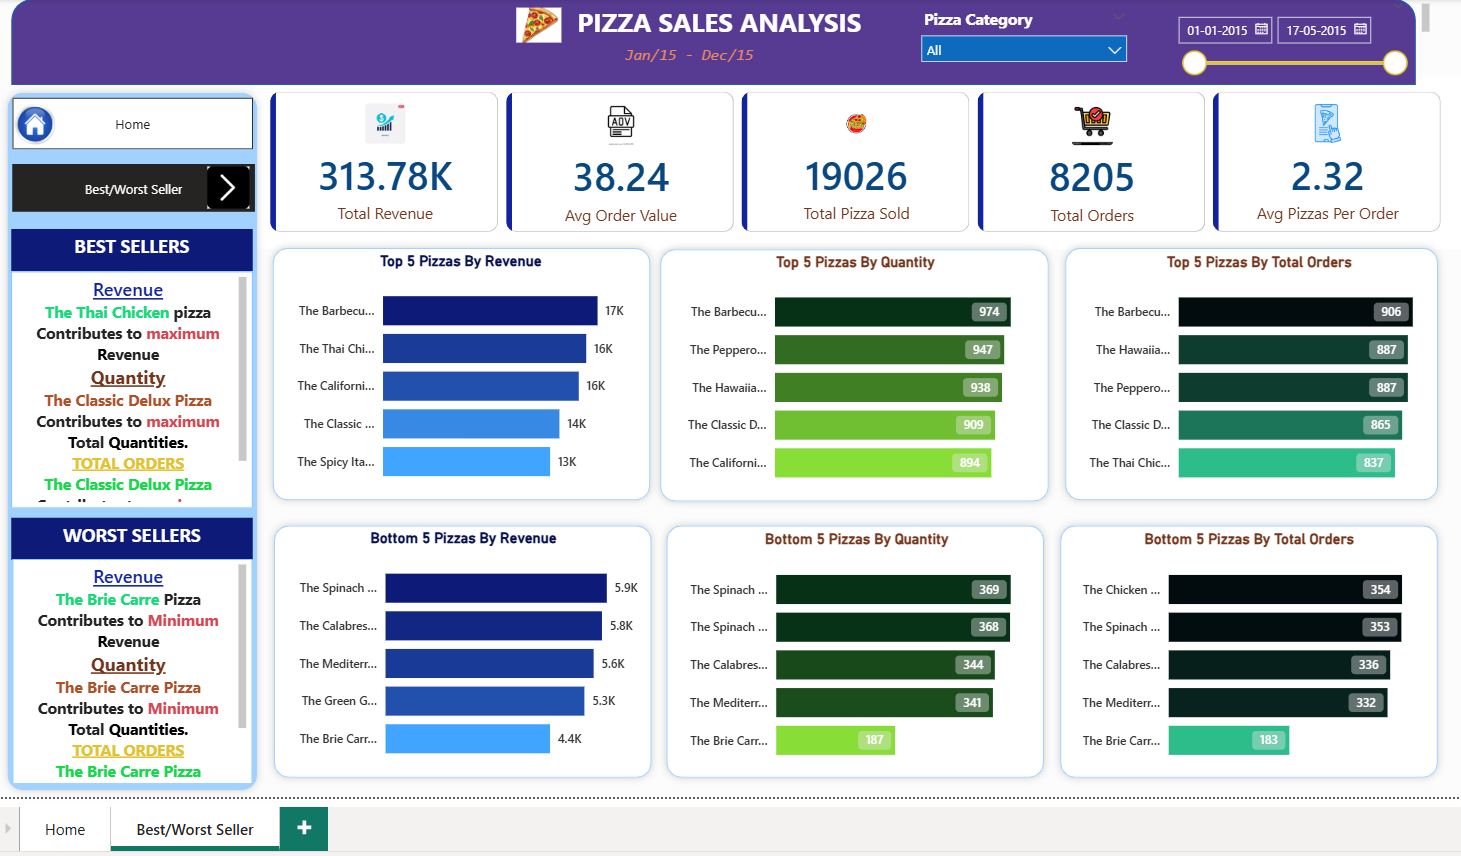

Layout of this report page (visuals, bound fields, positions):
{"tool":"powerbi","page":{"name":"Best/Worst Seller","canvas":[1500,820],"ordinal":1},"visuals":[{"type":"cardVisual","fields":{"Data":["pizza_sales pizza.Total Revenue","pizza_sales pizza.Avg Order Value","pizza_sales pizza.Total Pizza Sold","pizza_sales pizza.Total Orders","pizza_sales pizza.Avg Pizzas Per Order"]},"box":[260.5,78.8,1239.8,178.5],"z":0},{"type":"shape","box":[11.3,0,1442.4,88.4],"z":1000},{"type":"textbox","box":[12.9,0,1460.1,41.8],"z":2000},{"type":"textbox","box":[636.8,43.4,160.8,37],"z":3000},{"type":"image","box":[530.7,0,46.6,53.1],"z":4000},{"type":"shape","box":[271.8,247.6,403.6,275],"z":5000},{"type":"shape","box":[0,88.4,271.8,731.7],"z":6000},{"type":"textbox","box":[11.3,236.4,247.6,43.4],"z":7000},{"type":"textbox","box":[11.3,279.8,247.6,242.8],"z":8000},{"type":"textbox","box":[11.3,532.3,247.6,43.4],"z":9000},{"type":"textbox","box":[12.9,575.7,246,231.6],"z":10000},{"type":"slicer","fields":{"Values":["pizza_sales pizza.pizza_category"]},"box":[936.2,3.2,231.6,80.4],"z":11000},{"type":"slicer","fields":{"Values":["pizza_sales pizza.order_date"]},"box":[1198,0,255.7,88.4],"z":12000},{"type":"shape","box":[670.6,249.3,414.9,275],"z":13000},{"type":"shape","box":[1085.4,247.6,398.8,275],"z":14000},{"type":"shape","box":[273.4,532.3,403.6,275],"z":15000},{"type":"shape","box":[677,532.3,403.6,275],"z":16000},{"type":"shape","box":[1080.6,532.3,403.6,275],"z":17000},{"type":"barChart","title":"Top 5 Pizzas By Revenue","fields":{"Category":["pizza_sales pizza.pizza_name"],"Y":["pizza_sales pizza.Total Revenue"]},"box":[287.8,258.9,371.5,252.5],"z":18000},{"type":"barChart","title":"Bottom 5 Pizzas By Revenue","fields":{"Category":["pizza_sales pizza.pizza_name"],"Y":["pizza_sales pizza.Total Revenue"]},"box":[289.7,544.5,371.8,252.1],"z":19000},{"type":"barChart","title":"Top 5 Pizzas By Quantity","fields":{"Category":["pizza_sales pizza.pizza_name"],"Y":["pizza_sales pizza.Total Pizza Sold"]},"box":[688.3,260.5,381.1,252.5],"z":20000},{"type":"barChart","title":"Bottom 5 Pizzas By Quantity","fields":{"Category":["pizza_sales pizza.pizza_name"],"Y":["pizza_sales pizza.Total Pizza Sold"]},"box":[689.9,545.1,381.1,252.5],"z":21000},{"type":"barChart","title":"Top 5 Pizzas By Total Orders","fields":{"Category":["pizza_sales pizza.pizza_name"],"Y":["pizza_sales pizza.Total Orders"]},"box":[1103.1,260.5,381.1,252.5],"z":22000},{"type":"barChart","title":"Bottom 5 Pizzas By Total Orders","fields":{"Category":["pizza_sales pizza.pizza_name"],"Y":["pizza_sales pizza.Total Orders"]},"box":[1091.9,545.1,381.1,252.5],"z":23000},{"type":"pageNavigator","box":[12.9,168.8,249.3,49.9],"z":24000},{"type":"pageNavigator","box":[12.9,101.3,247.6,53.1],"z":24001},{"type":"image","box":[210.7,172.1,48.2,43.4],"z":24002},{"type":"image","box":[12.9,107.7,46.6,41.8],"z":24003}]}

Visuals, with their boxes on the page's 1500x820 design canvas (x1, y1, x2, y2). These are canvas units, not pixel positions in the 1461x856 screenshot, which may show the page scaled, cropped or inside an application window:
cardVisual - pizza_sales pizza.Total Revenue x pizza_sales pizza.Avg Order Value: Rect(260, 79, 1500, 257)
shape: Rect(11, 0, 1454, 88)
textbox: Rect(13, 0, 1473, 42)
textbox: Rect(637, 43, 798, 80)
image: Rect(531, 0, 577, 53)
shape: Rect(272, 248, 675, 523)
shape: Rect(0, 88, 272, 820)
textbox: Rect(11, 236, 259, 280)
textbox: Rect(11, 280, 259, 523)
textbox: Rect(11, 532, 259, 576)
textbox: Rect(13, 576, 259, 807)
slicer - pizza_sales pizza.pizza_category: Rect(936, 3, 1168, 84)
slicer - pizza_sales pizza.order_date: Rect(1198, 0, 1454, 88)
shape: Rect(671, 249, 1086, 524)
shape: Rect(1085, 248, 1484, 523)
shape: Rect(273, 532, 677, 807)
shape: Rect(677, 532, 1081, 807)
shape: Rect(1081, 532, 1484, 807)
"Top 5 Pizzas By Revenue" barChart: Rect(288, 259, 659, 511)
"Bottom 5 Pizzas By Revenue" barChart: Rect(290, 544, 662, 797)
"Top 5 Pizzas By Quantity" barChart: Rect(688, 260, 1069, 513)
"Bottom 5 Pizzas By Quantity" barChart: Rect(690, 545, 1071, 798)
"Top 5 Pizzas By Total Orders" barChart: Rect(1103, 260, 1484, 513)
"Bottom 5 Pizzas By Total Orders" barChart: Rect(1092, 545, 1473, 798)
pageNavigator: Rect(13, 169, 262, 219)
pageNavigator: Rect(13, 101, 260, 154)
image: Rect(211, 172, 259, 216)
image: Rect(13, 108, 60, 150)
